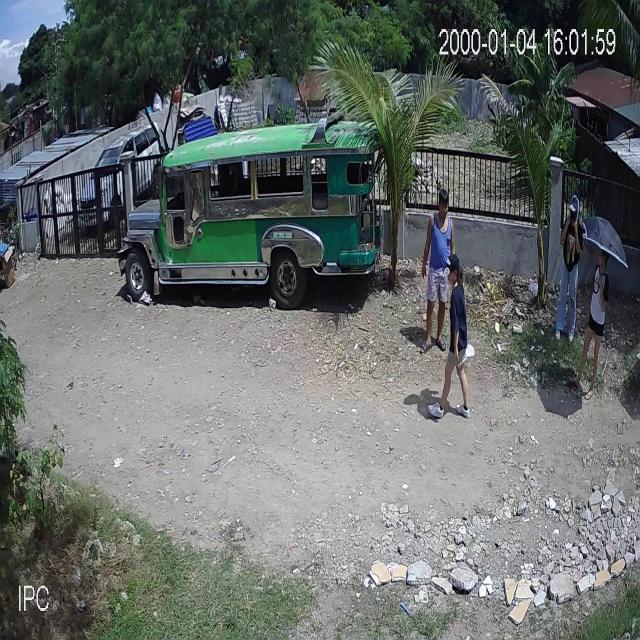standing: (568, 244, 612, 400), (418, 188, 456, 356), (554, 194, 586, 344)
walking: (427, 252, 471, 422)
